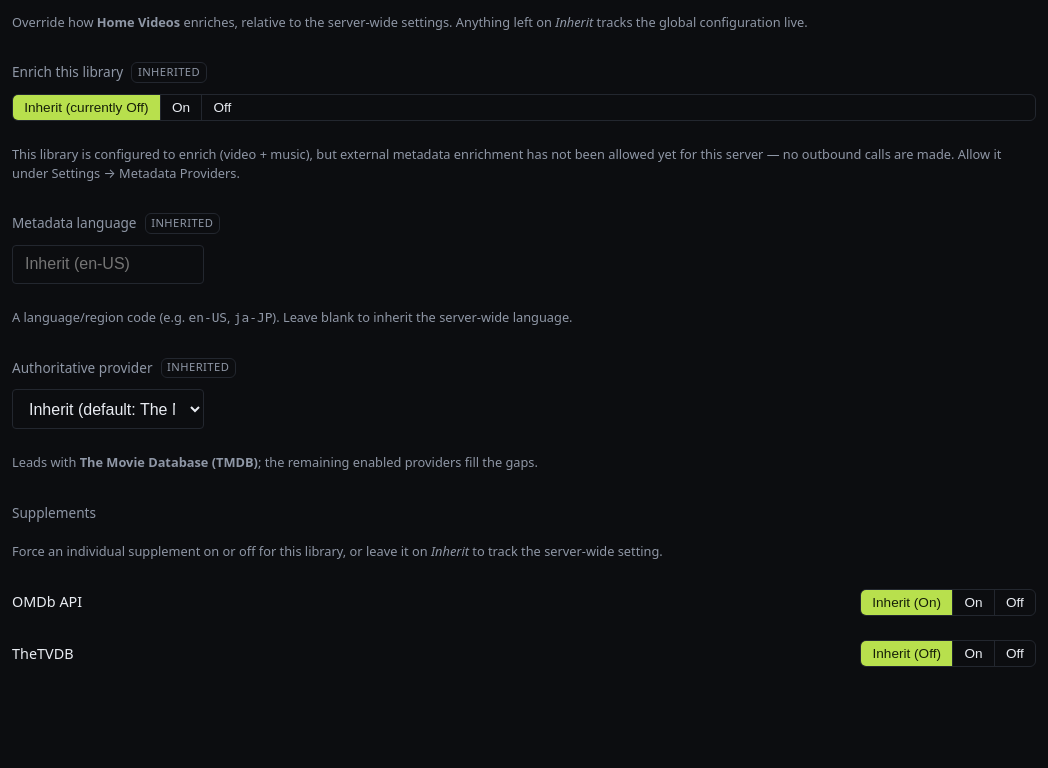
Test: EnrichmentPolicyPanel › takes its claim from the server's fresh view, so a grant in between flips it
This screenshot has width=1048, height=768.
Check: the text with test id "enrich-effective" shows "configured to enrich", box [12,144,1001,182]
Click the button with test id "enrich-enabled-on" at (181, 107), box [160,95,201,120]
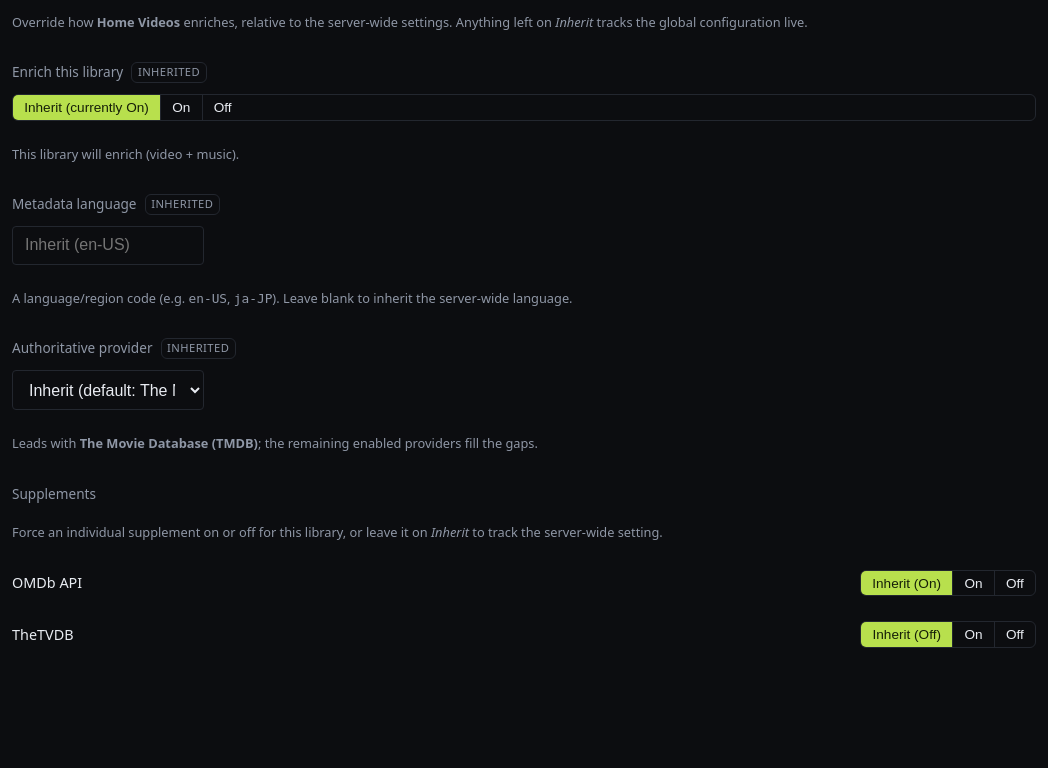
Check: the text with test id "enrich-effective" shows "will enrich (video + music)", box [12,144,239,162]
